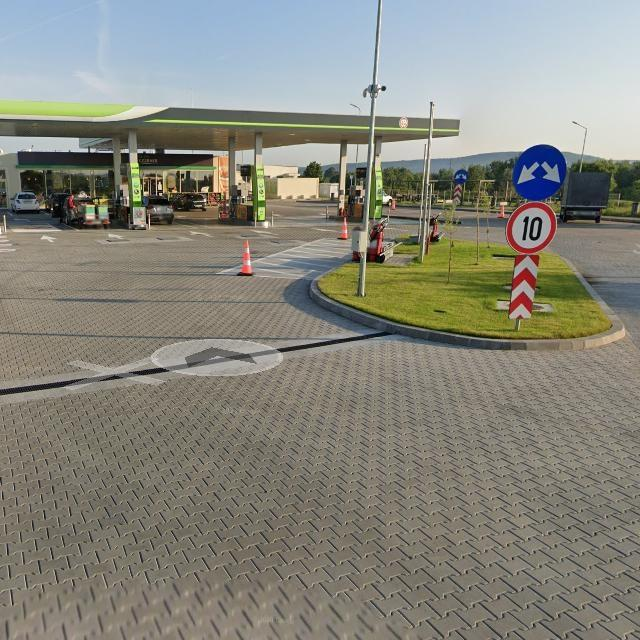forb_speed_over_10: (506, 201, 558, 254)
